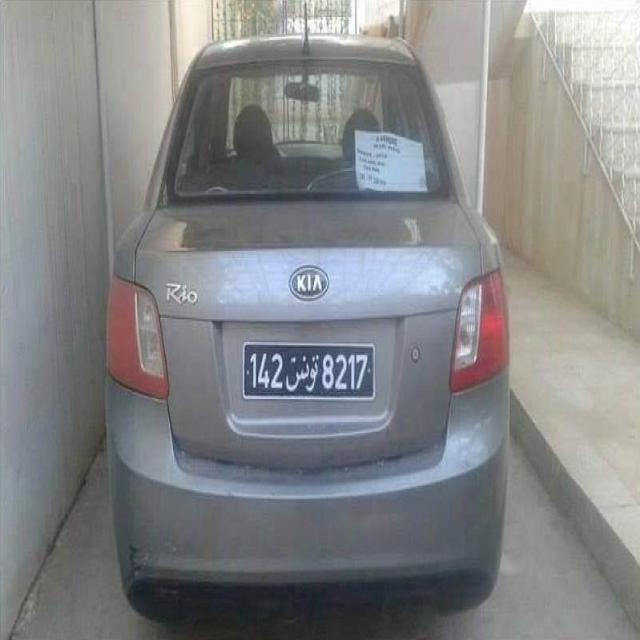licence plate: (243, 345, 375, 398)
